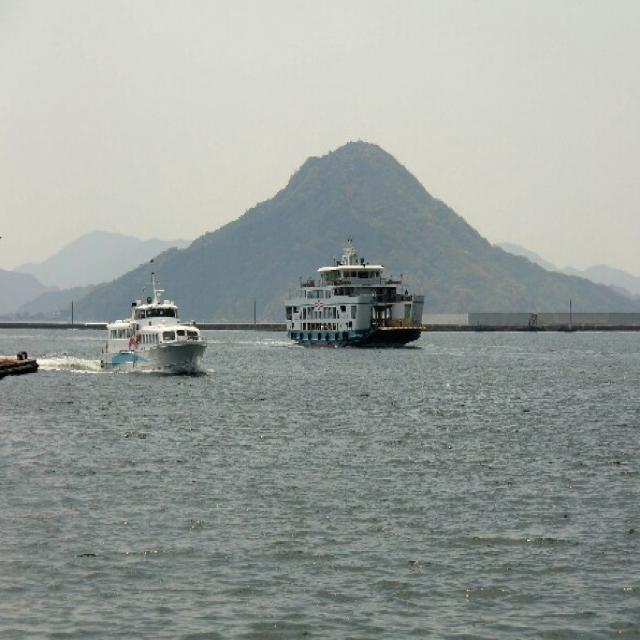passenger ship: (104, 292, 204, 373), (260, 240, 280, 251)
